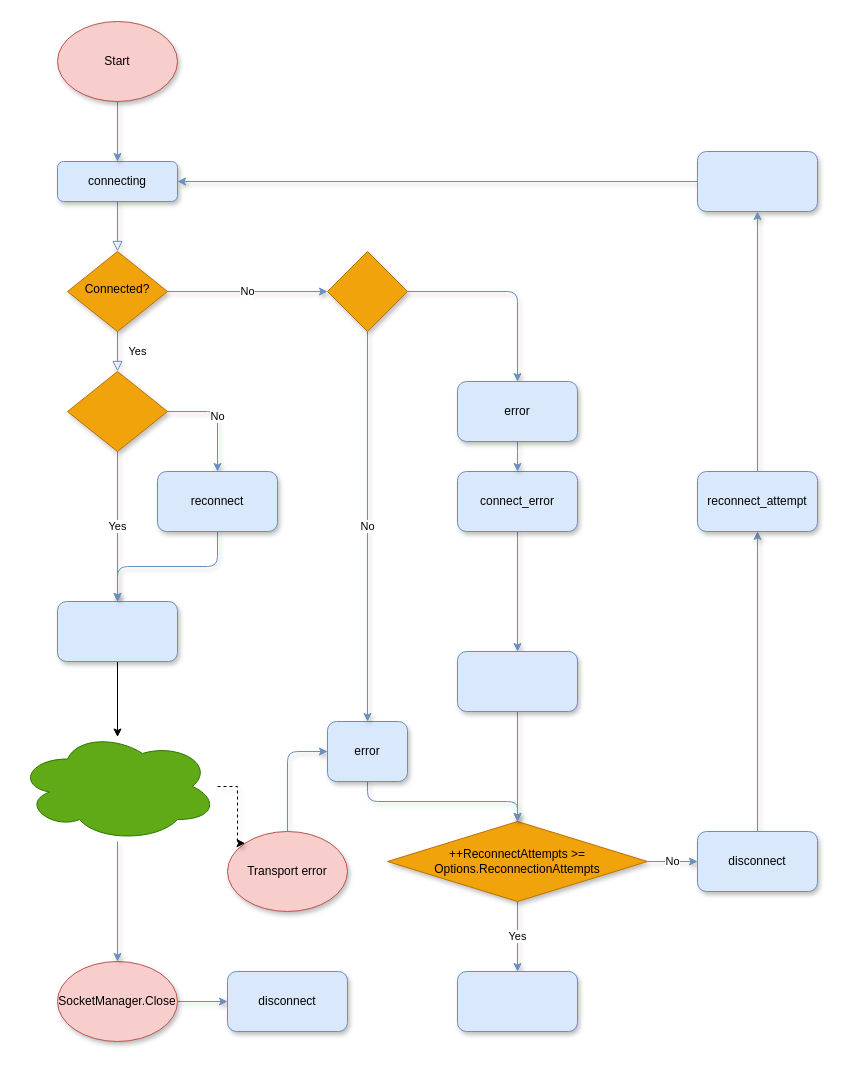
Some shapes in this 841 by 1066 pixel diagram are drawn without their labels. The centre of each missing label's shape, as x and y in pixels:
"connect" belongs at (x=118, y=632).
"connect_timeout" belongs at (x=518, y=682).
"First time?" belongs at (x=118, y=412).
"Is Timeout?" belongs at (x=368, y=292).
"reconnect_failed" belongs at (x=518, y=1002).
"reconnecting" belongs at (x=758, y=182).
"While Connected Send & Receive events" belongs at (x=117, y=786).
